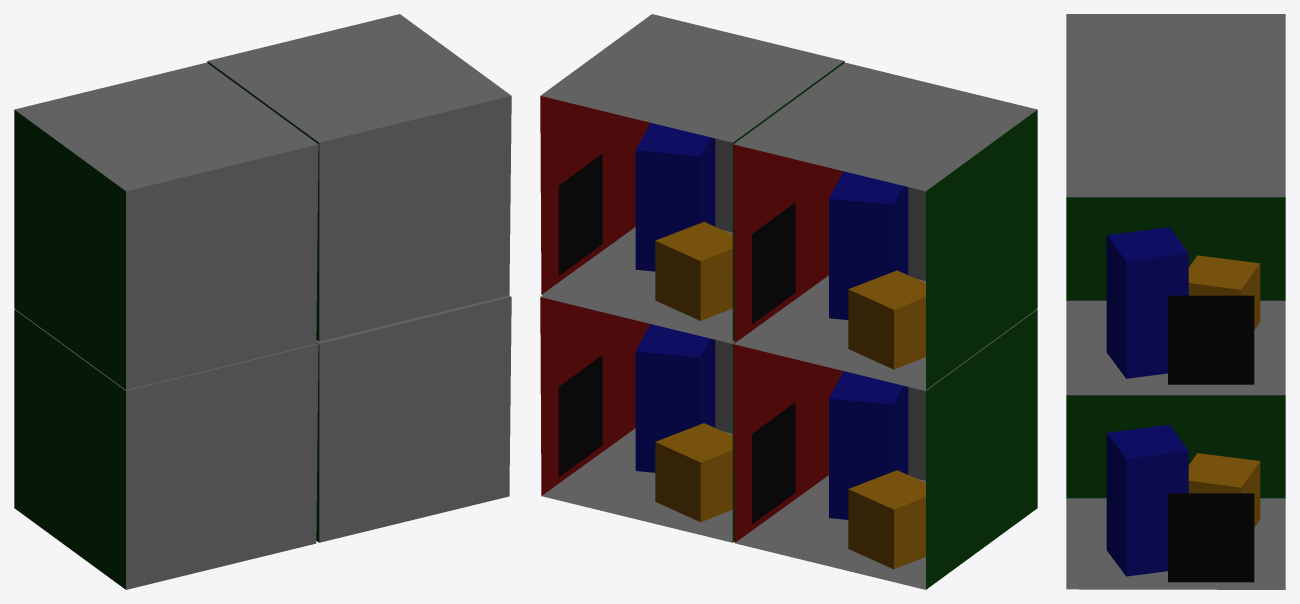
File: multiCornellBoxGround.obj
3 views of the same model, side by side, from view 1: azimuth 30°, elevation 25°; view 2: azimuth 150°, elevation 25°; view 3: azimuth 270°, elevation 25° (orthographic).
Parts seen in each view (by area): view 1: back_wall, back_wall.003, back_wall.001, back_wall.002, green_wall.001, green_wall.002, ceiling.003, ceiling.002, green_wall.003; view 2: green_wall.001, green_wall.002, ceiling.003, ceiling.002, red_wall, red_wall.003, red_wall.002, red_wall.001, tall_block, tall_block.003, tall_block.001, tall_block.002 (+17 smaller); view 3: ceiling.003, ceiling.002, green_wall.003, green_wall, tall_block, tall_block.003, floor.003, floor, mirror, mirror.003, short_block, short_block.003 (+1 smaller).
Boxes of the visible parts, <box> form: back_wall: <box>319,297,511,542</box>; back_wall.003: <box>319,96,511,341</box>; back_wall.001: <box>126,344,318,589</box>; back_wall.002: <box>126,144,318,389</box>; green_wall.001: <box>14,309,125,589</box>; green_wall.002: <box>14,110,125,389</box>; ceiling.003: <box>208,14,511,142</box>; ceiling.002: <box>14,62,317,191</box>; green_wall.003: <box>207,61,319,341</box>; green_wall.001: <box>926,309,1037,589</box>; green_wall.002: <box>926,110,1037,389</box>; ceiling.003: <box>540,14,843,142</box>; ceiling.002: <box>734,62,1037,191</box>; red_wall: <box>540,297,650,495</box>; red_wall.003: <box>540,96,650,294</box>; red_wall.002: <box>733,144,843,342</box>; red_wall.001: <box>733,344,843,542</box>; tall_block: <box>635,324,715,472</box>; tall_block.003: <box>635,123,715,271</box>; tall_block.001: <box>829,371,908,519</box>; tall_block.002: <box>829,171,908,319</box>; ceiling.003: <box>1066,105,1285,197</box>; ceiling.002: <box>1066,14,1285,105</box>; green_wall.003: <box>1066,197,1285,300</box>; green_wall: <box>1066,395,1285,498</box>; tall_block: <box>1106,424,1188,576</box>; tall_block.003: <box>1106,227,1188,378</box>; floor.003: <box>1066,300,1285,392</box>; floor: <box>1066,498,1285,589</box>; mirror: <box>1168,493,1254,582</box>; mirror.003: <box>1168,295,1254,384</box>; short_block: <box>1188,453,1260,527</box>; short_block.003: <box>1188,255,1260,329</box>.
Size of what is drawn, in the model's own units: 56.77 by 56.28 by 28.5.
